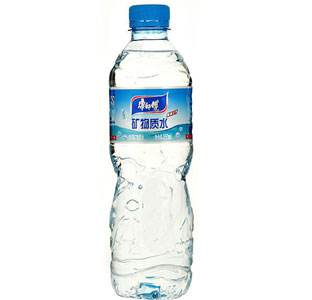amwater: (85, 1, 212, 297)
